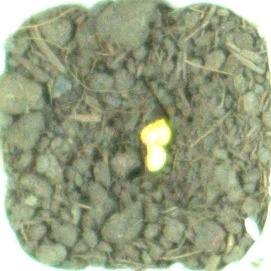pepper seed: (60, 54, 230, 227), (51, 44, 224, 192)
